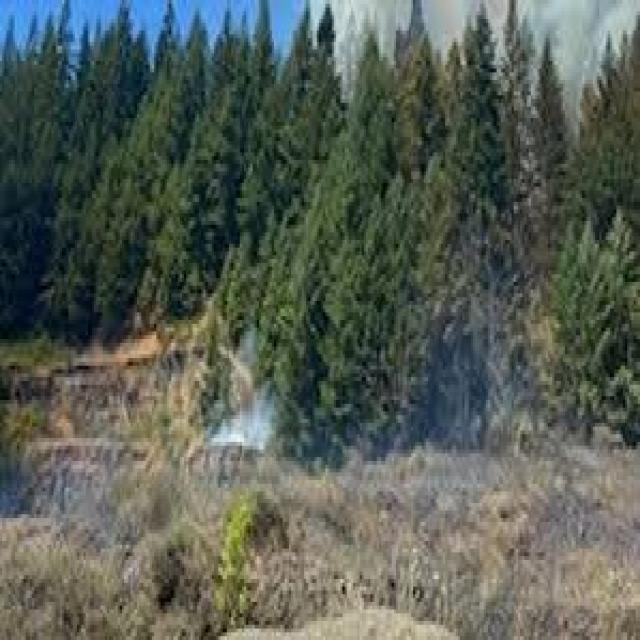Smoke: (204, 314, 295, 474)
